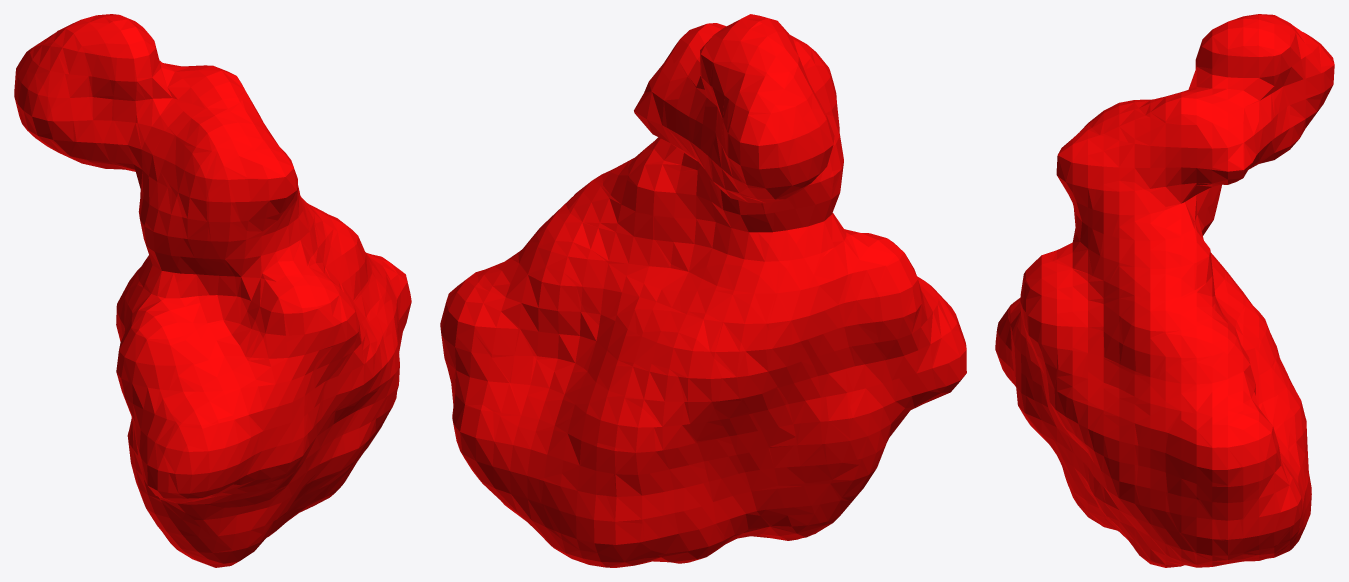
The model's file is paaY_coarse.dae.
The picture shows the model from 3 angles, left to right: view 1: azimuth 30°, elevation 25°; view 2: azimuth 150°, elevation 25°; view 3: azimuth 270°, elevation 25°; orthographic projection. The views are drawn at different scales.
Parts seen in each view (by area): view 1: paaY; view 2: paaY; view 3: paaY.
Boxes of the visible parts, x1,y1,x2,y2 form: paaY: (14,14,411,567); paaY: (440,14,966,567); paaY: (995,14,1334,567).
Bounding box in the file's own units: 48.26 × 66.27 × 41.37.
